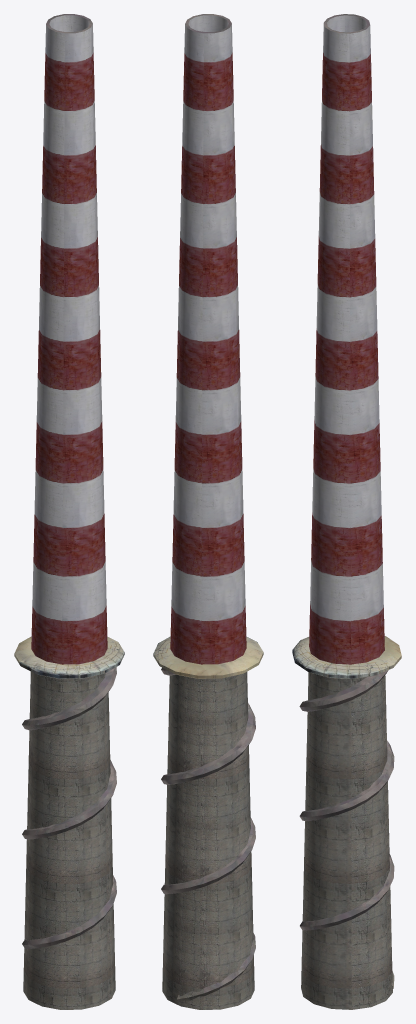
Rendered from chimney.glb.
3 views of the same model, side by side, from view 1: azimuth 30°, elevation 25°; view 2: azimuth 210°, elevation 25°; view 3: azimuth 330°, elevation 25° (orthographic).
Visible parts, largest first — view 1: ltc-sl-123-01; view 2: ltc-sl-123-01; view 3: ltc-sl-123-01.
Part boxes in pixels (left/top/right/bottom): ltc-sl-123-01: left=14, top=14, right=124, bottom=1009; ltc-sl-123-01: left=153, top=14, right=263, bottom=1009; ltc-sl-123-01: left=292, top=14, right=401, bottom=1009.
Bounding box in the file's own units: 2.01 × 19.47 × 1.98.
Materials: 4 (4 with a texture image).
